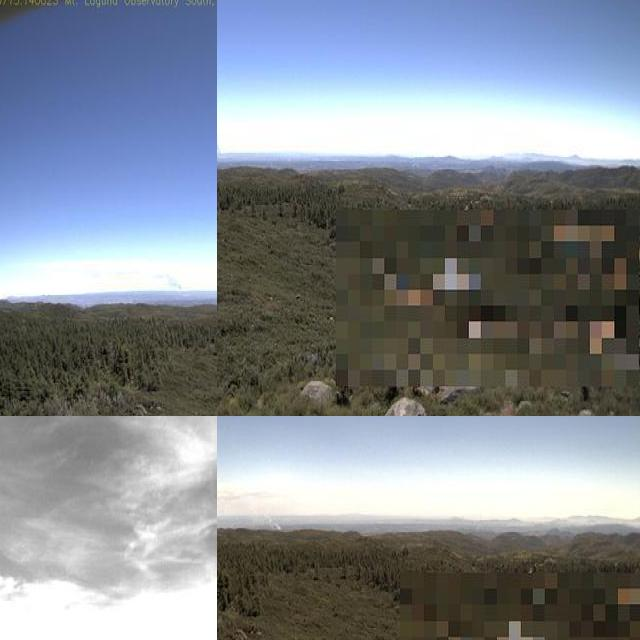smoke: (222, 491, 283, 528), (156, 268, 185, 291), (217, 131, 226, 161)
